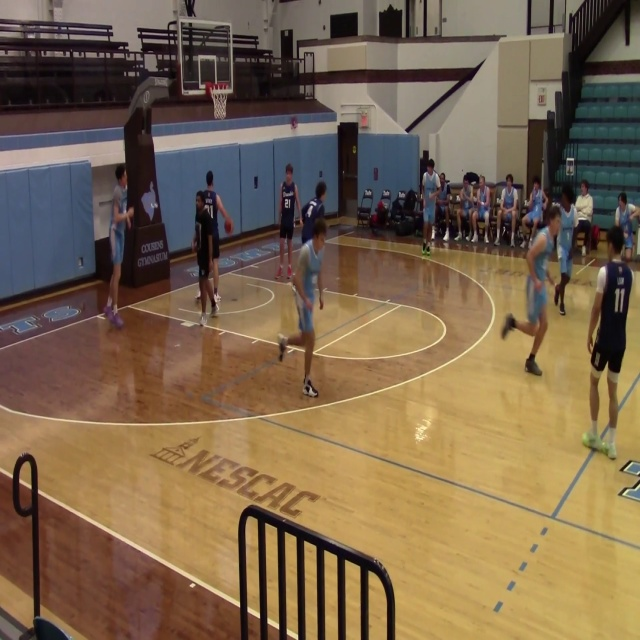Basketball: (224, 220, 232, 233), (534, 280, 542, 291), (291, 117, 298, 128)
